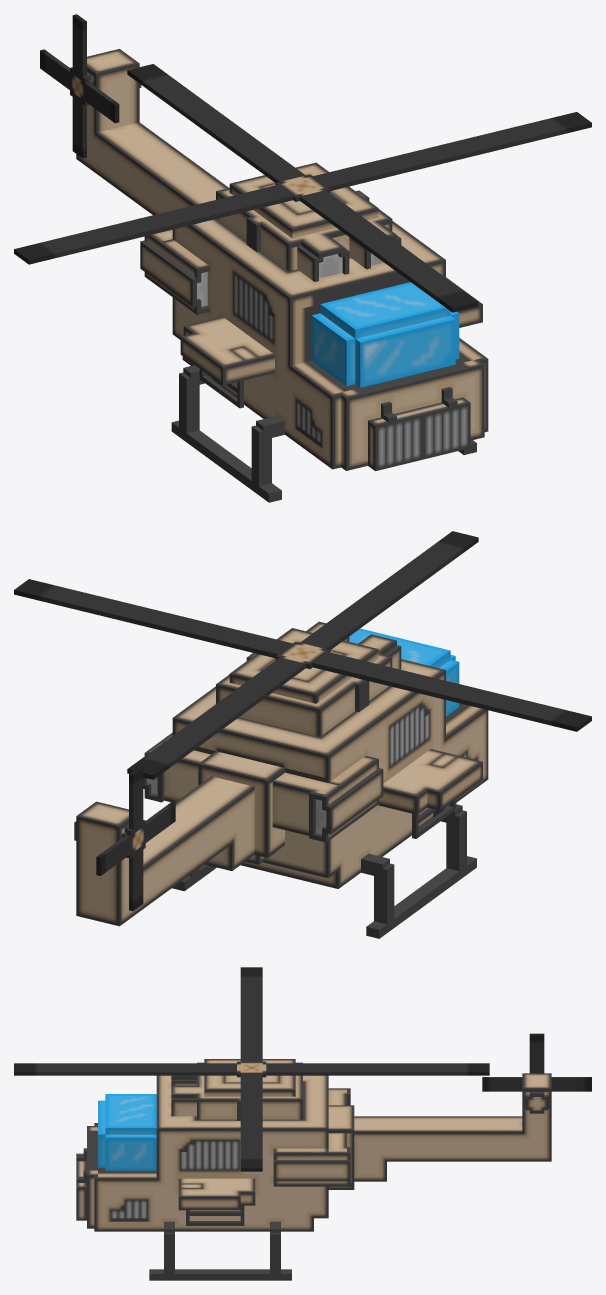
3 renders of one model, top to bottom at view 1: azimuth 30°, elevation 25°; view 2: azimuth 150°, elevation 25°; view 3: azimuth 270°, elevation 25°, orthographic. The views are drawn at different scales.
Parts seen in each view (by area): view 1: Matrix_6, Matrix_7, Matrix_8; view 2: Matrix_6, Matrix_7, Matrix_8; view 3: Matrix_6, Matrix_7, Matrix_8.
Boxes of the visible parts, box(x1,y1,x2,y2) form: Matrix_6: box(76, 49, 488, 502); Matrix_7: box(14, 64, 591, 312); Matrix_8: box(40, 14, 119, 158); Matrix_6: box(74, 621, 488, 938); Matrix_7: box(14, 531, 591, 779); Matrix_8: box(96, 767, 175, 910); Matrix_6: box(76, 1059, 551, 1280); Matrix_7: box(14, 967, 489, 1171); Matrix_8: box(482, 1033, 591, 1091).
Size of the model in its own units: 130 by 60 by 158.
